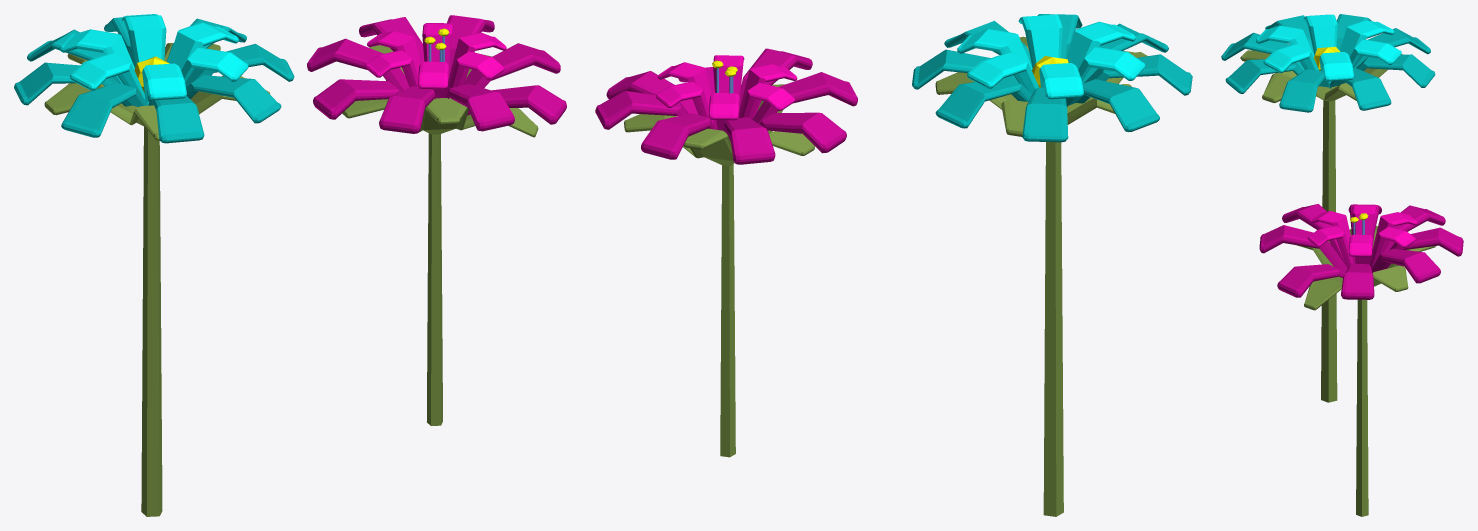
Rendered from flower_04.fbx.
3 renders of one model, left to right at view 1: azimuth 30°, elevation 25°; view 2: azimuth 150°, elevation 25°; view 3: azimuth 270°, elevation 25°, orthographic. The views are drawn at different scales.
Visible parts, largest first — view 1: Flower_Group_04; view 2: Flower_Group_04; view 3: Flower_Group_04.
Part boxes in pixels (x1,y1,x2,y2): Flower_Group_04: (14,14,566,516); Flower_Group_04: (595,14,1192,516); Flower_Group_04: (1221,14,1463,516).
Bounding box in the file's own units: 86.32 × 71.4 × 43.45.
